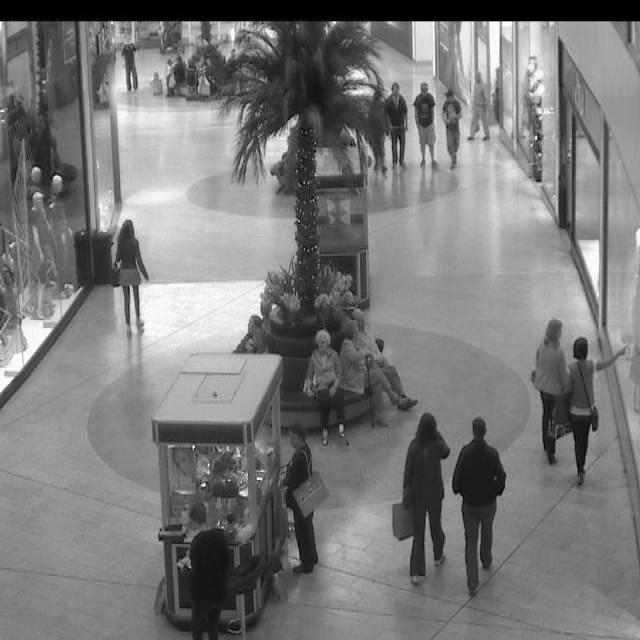person: (449, 419, 506, 586), (564, 337, 621, 487), (400, 415, 451, 581), (276, 419, 323, 574), (531, 321, 572, 463), (361, 328, 418, 411), (412, 82, 462, 170), (303, 332, 342, 444), (110, 219, 150, 328), (336, 313, 368, 392), (413, 84, 438, 168), (366, 87, 389, 172), (386, 86, 410, 167), (442, 88, 464, 168), (234, 314, 268, 353), (472, 76, 491, 137), (122, 38, 139, 90), (197, 56, 214, 99), (164, 57, 178, 94)
